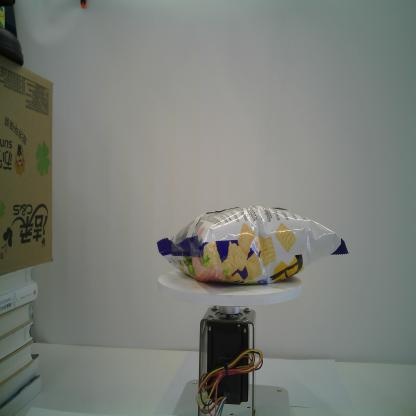Puffed Food: (153, 199, 350, 292)
